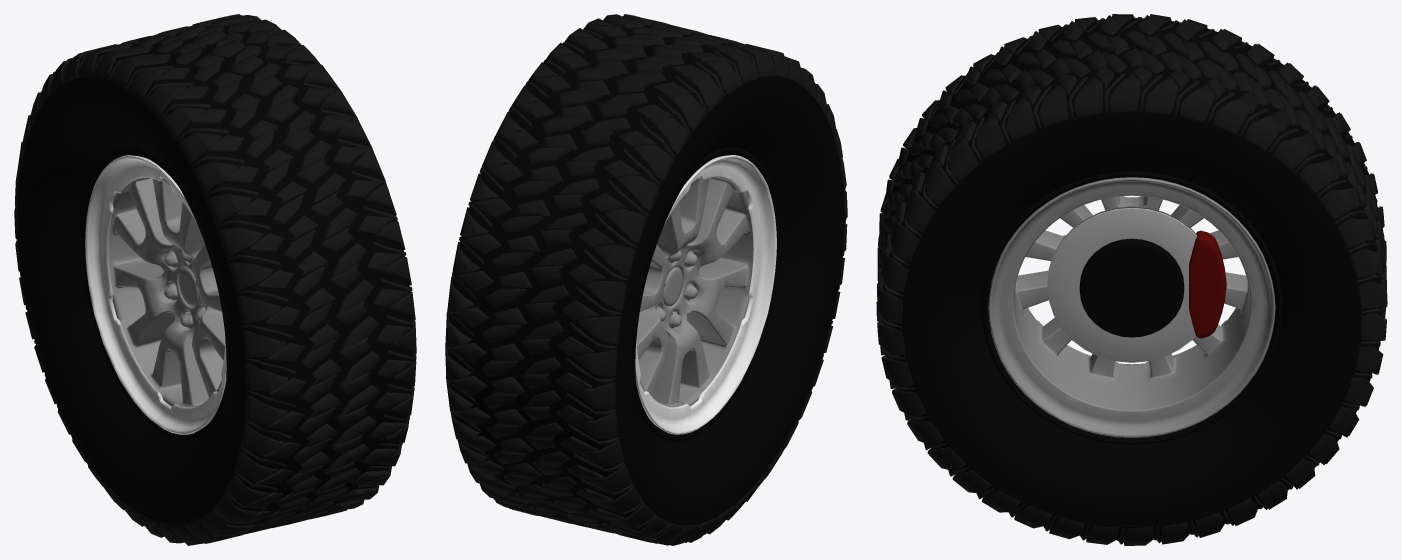
The model's file is wh_offroad.glb.
3 views of the same model, side by side, from view 1: azimuth 30°, elevation 25°; view 2: azimuth 150°, elevation 25°; view 3: azimuth 270°, elevation 25° (orthographic).
Visible parts, largest first — view 1: wheel; view 2: wheel; view 3: wheel.
Boxes of the visible parts, left/top/right/bottom form: wheel: left=14, top=14, right=416, bottom=545; wheel: left=445, top=14, right=847, bottom=545; wheel: left=876, top=14, right=1387, bottom=545.
Size of the model in its own units: 0.7704 by 2 by 2.
